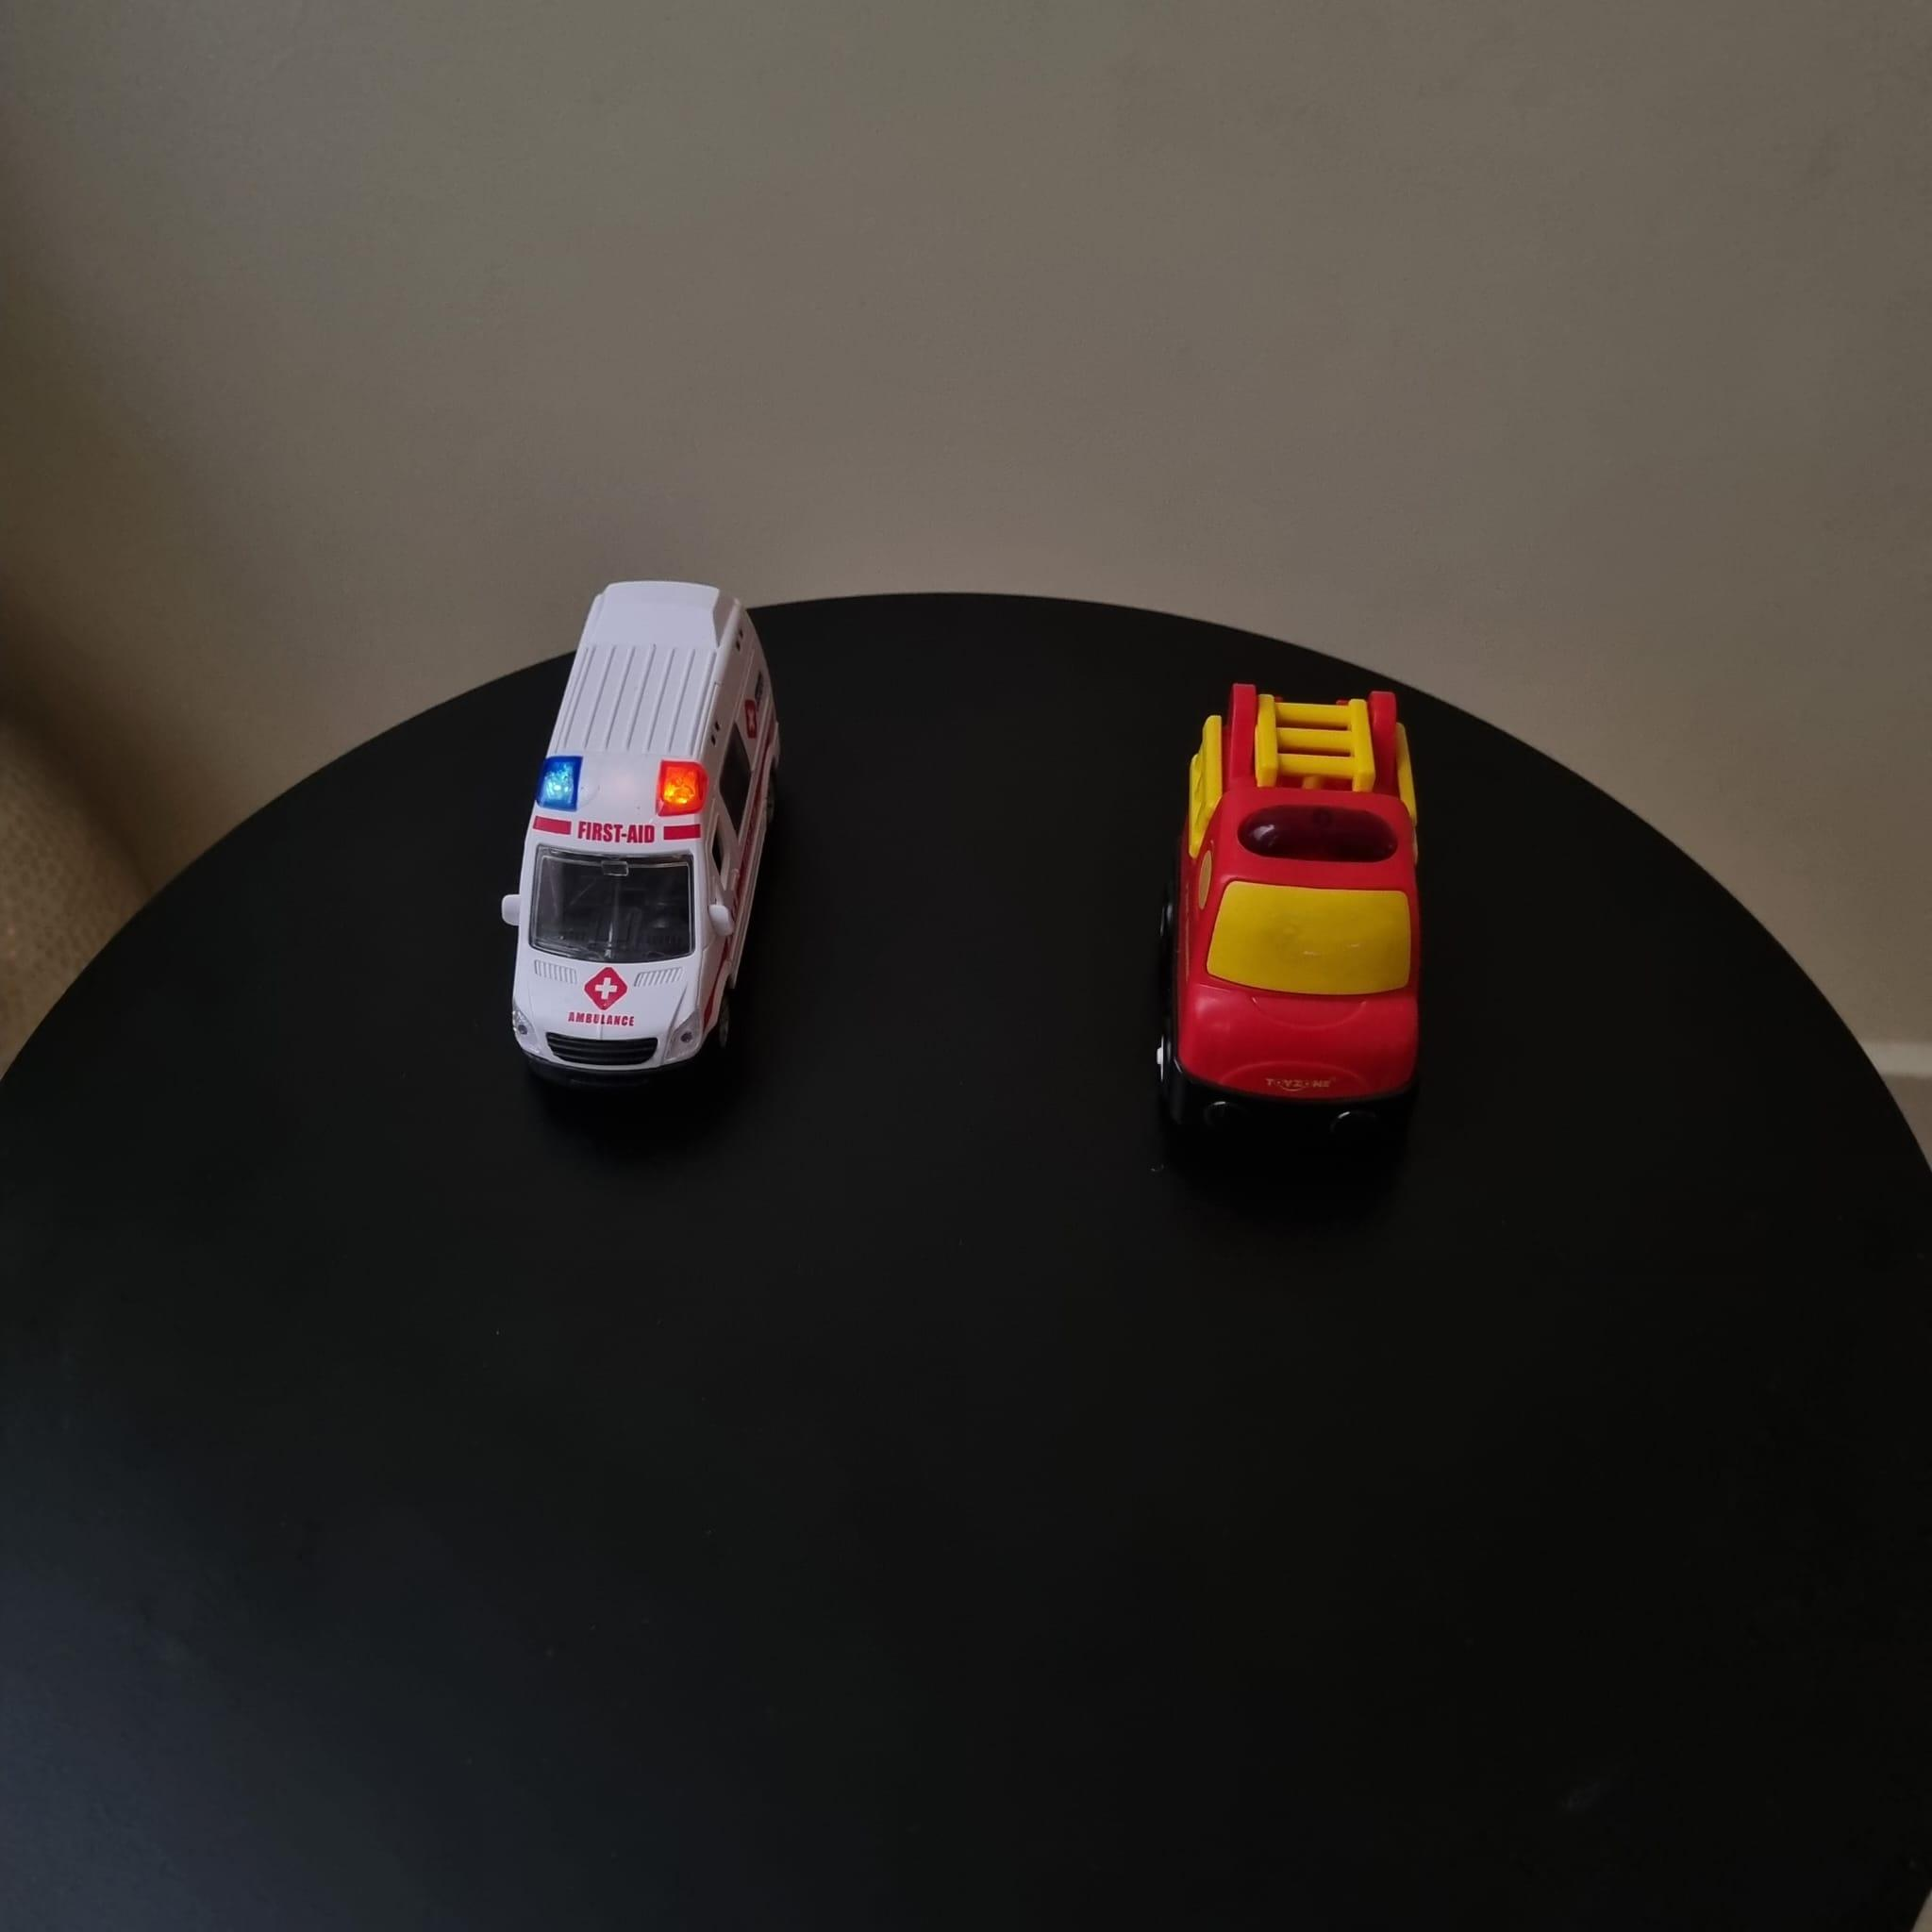ambulance_on: (492, 577, 800, 1088)
firetruck_off: (1152, 679, 1437, 1164)
